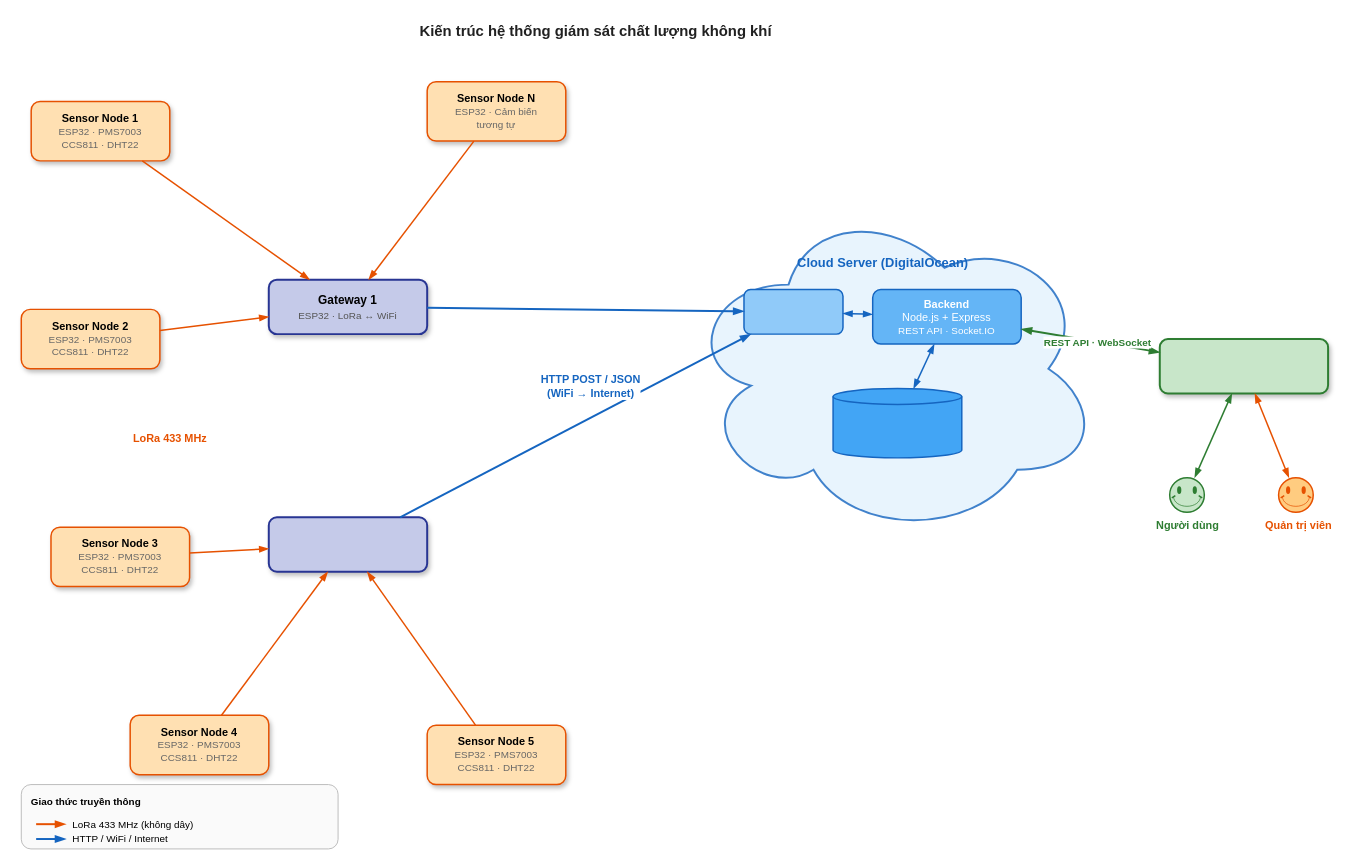
This 1360x866 diagram has some shape labels left out. Here are the shapes that lost their labels. From the top down, the centre of each, then its label:
At [793,311]: "Nginx Reverse Proxy".
At [1244,367]: "Web Dashboard React · Bản đồ · Biểu đồ".
At [897,422]: "PostgreSQL TimescaleDB".
At [348,545]: "Gateway 2 ESP32 · LoRa ↔ WiFi".
